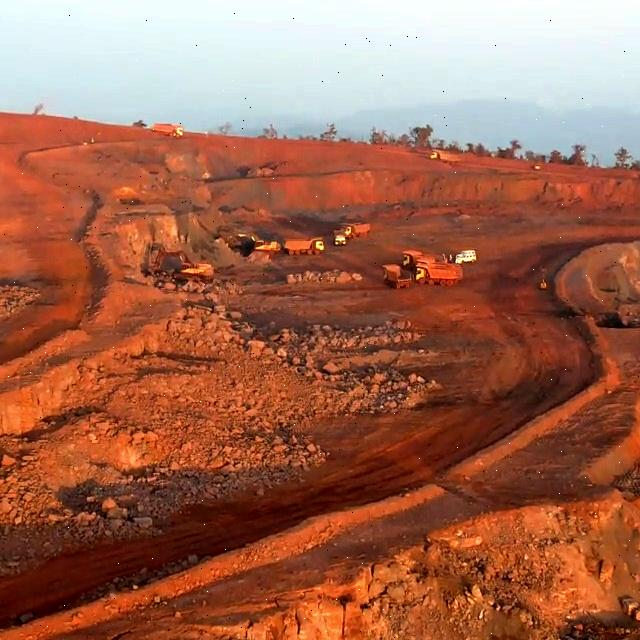Dumper truck: (415, 264, 460, 283), (153, 123, 185, 137), (431, 151, 460, 161)
Excavator: (173, 255, 213, 281), (250, 236, 280, 256)
car: (456, 254, 475, 262)
